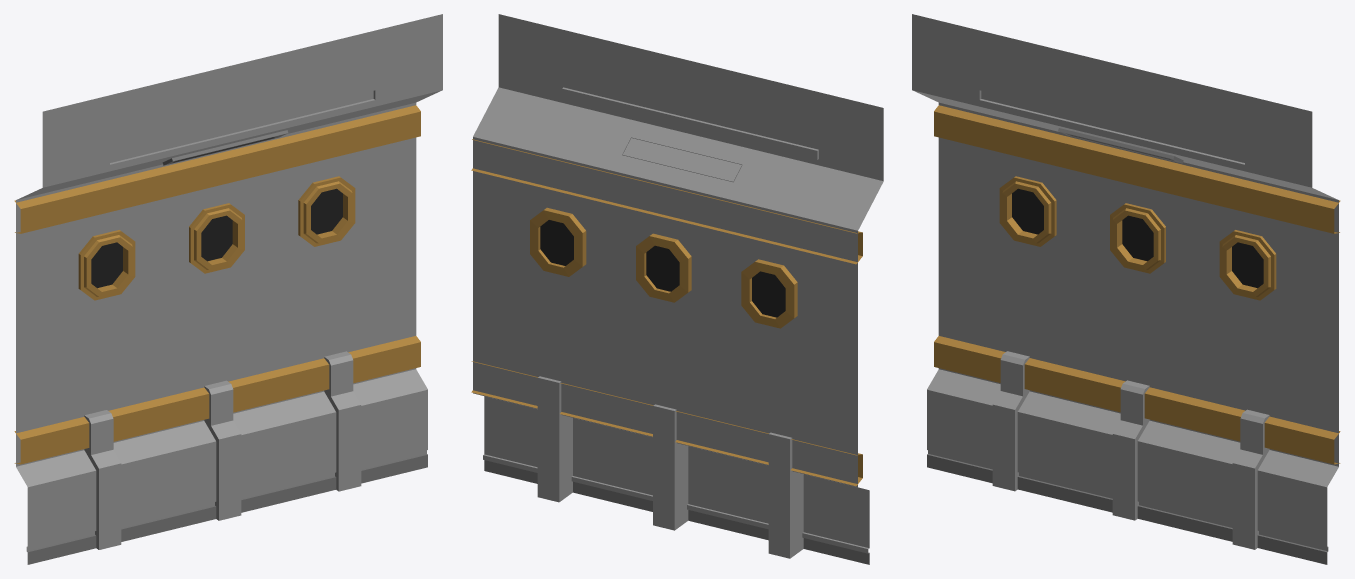
Rendered from SmallWindows_Wall_SideB.glb.
The picture shows the model from 3 angles, left to right: view 1: azimuth 30°, elevation 25°; view 2: azimuth 150°, elevation 25°; view 3: azimuth 330°, elevation 25°; orthographic projection. The views are drawn at different scales.
Visible parts, largest first — view 1: SmallWindows_Wall_SideB; view 2: SmallWindows_Wall_SideB; view 3: SmallWindows_Wall_SideB.
Part boxes in pixels (box(x1,y1,x2,y2)): SmallWindows_Wall_SideB: box(14, 14, 442, 564); SmallWindows_Wall_SideB: box(471, 14, 883, 564); SmallWindows_Wall_SideB: box(912, 14, 1340, 564).
Size of the model in its own units: 1.36 by 1.51 by 0.1789.
